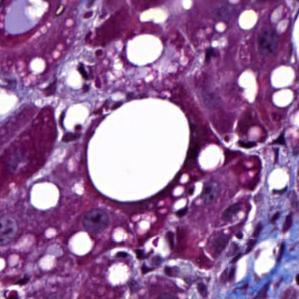inflammation: (130, 242, 169, 274), (77, 57, 99, 83), (109, 243, 136, 264)
